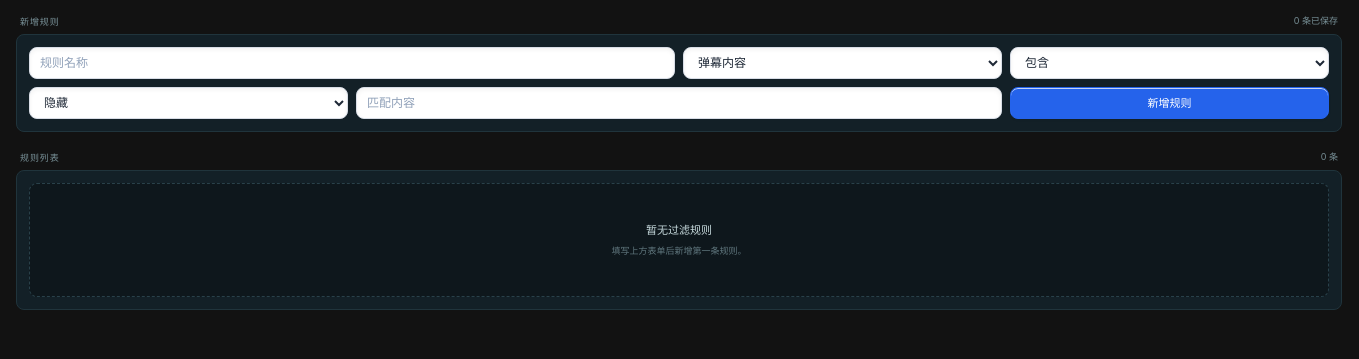
Scenario: rejects invalid manual UID 0
Select "用户 UID" in the dropdown named "规则目标" at {"x": 842, "y": 63}, box x1=683 y1=47 x2=1002 y2=79
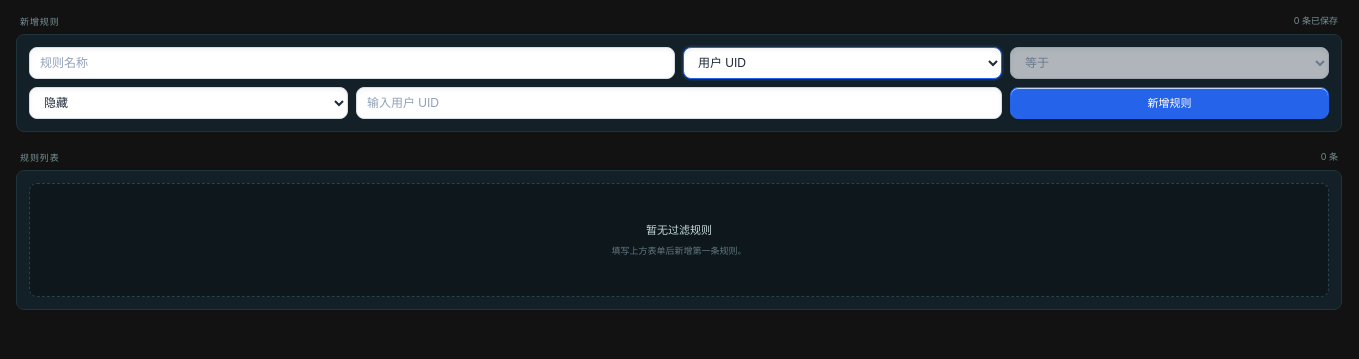
Type "0" into the field named "规则值" at {"x": 679, "y": 103}, box x1=356 y1=87 x2=1002 y2=119
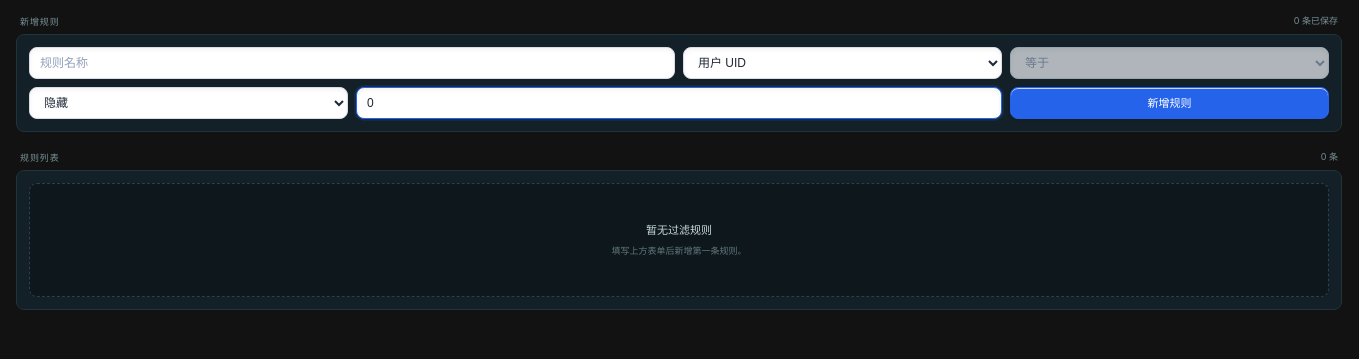
Click the button "新增规则" at {"x": 1170, "y": 103}, box x1=1010 y1=87 x2=1329 y2=119
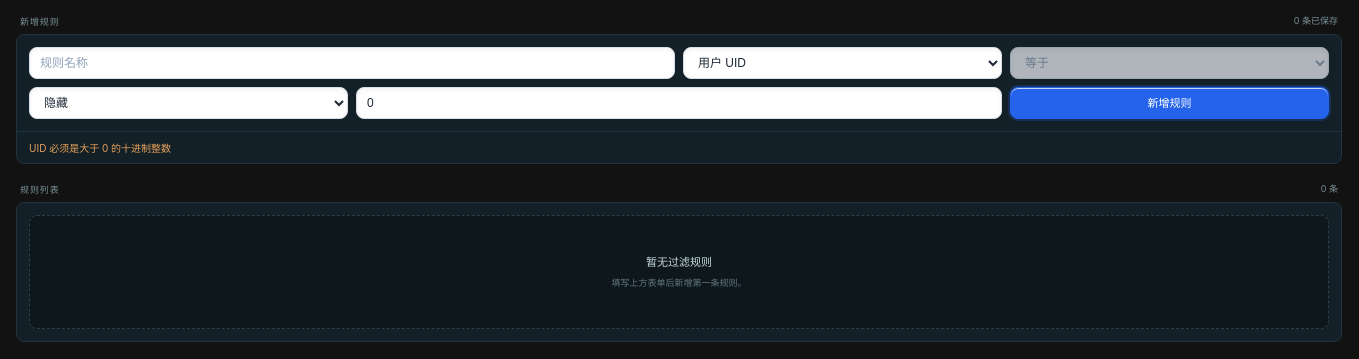
Expected: the message reads "UID 必须是大于 0 的十进制整数", x1=29 y1=142 x2=171 y2=154
